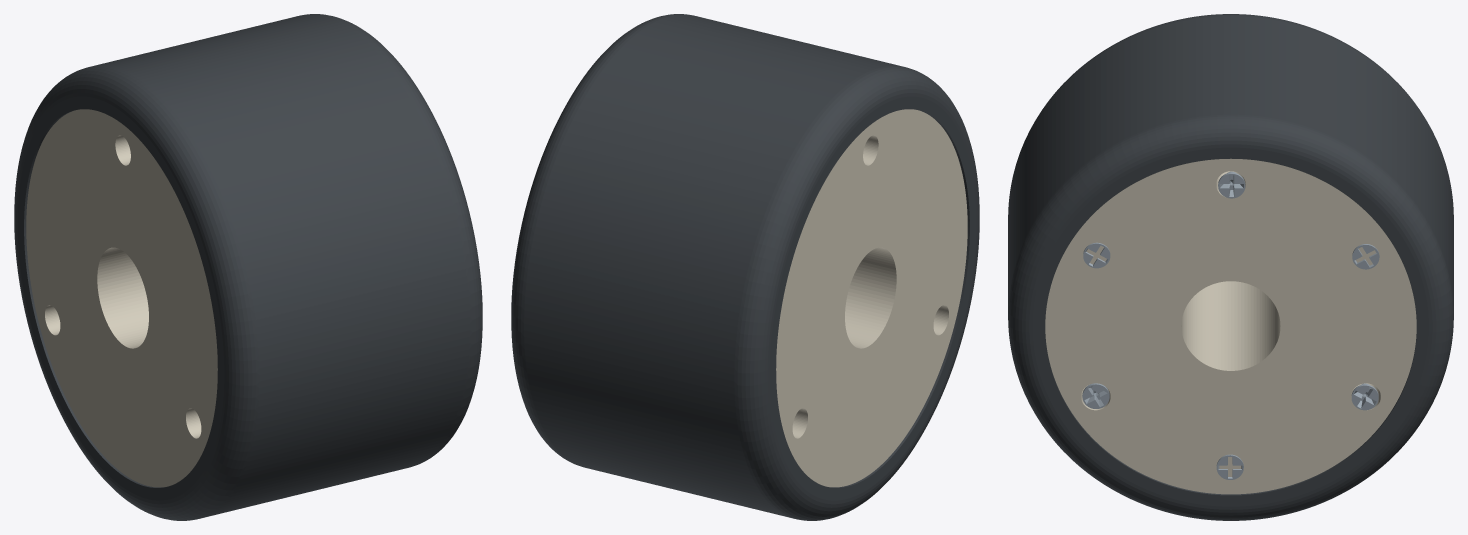
The model's file is skate_wheel_75.dae.
3 views of the same model, side by side, from view 1: azimuth 30°, elevation 25°; view 2: azimuth 150°, elevation 25°; view 3: azimuth 270°, elevation 25° (orthographic). The views are drawn at different scales.
Visible parts, largest first — view 1: Part 1, Part 2; view 2: Part 1, Part 2; view 3: Part 2, Part 1, PH Countersunk flat head screw M3x0 (×3).
Boxes of the visible parts, box(x1,y1,x2,y2) form: Part 1: box(14, 14, 482, 520); Part 2: box(26, 109, 217, 487); Part 1: box(511, 14, 979, 520); Part 2: box(776, 109, 967, 487); Part 2: box(1045, 158, 1416, 494); Part 1: box(1008, 14, 1453, 520); PH Countersunk flat head screw M3x0 (×3): box(1082, 171, 1378, 410).
Bounding box in the file's own units: 0.057 × 0.09 × 0.09.
